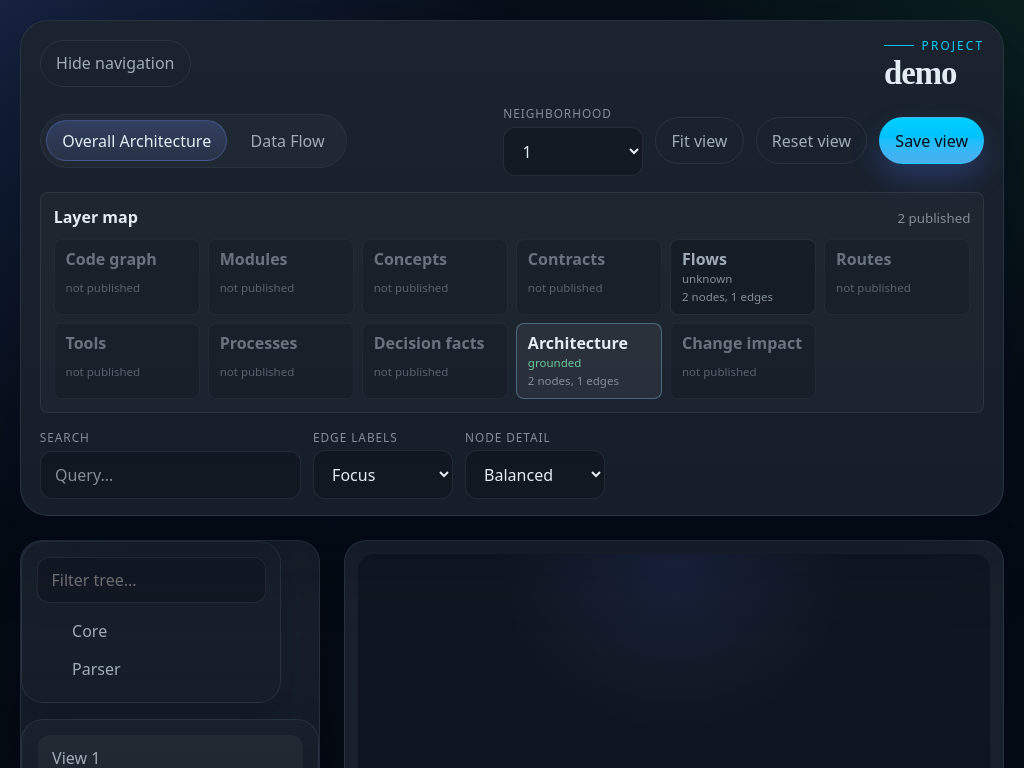
Test: cotx-workbench route › runs grounded impact for the selected node from the inspector
Step 1. Click the button "Core" → (90, 631), box [72,620,107,642]
(page scrolled)
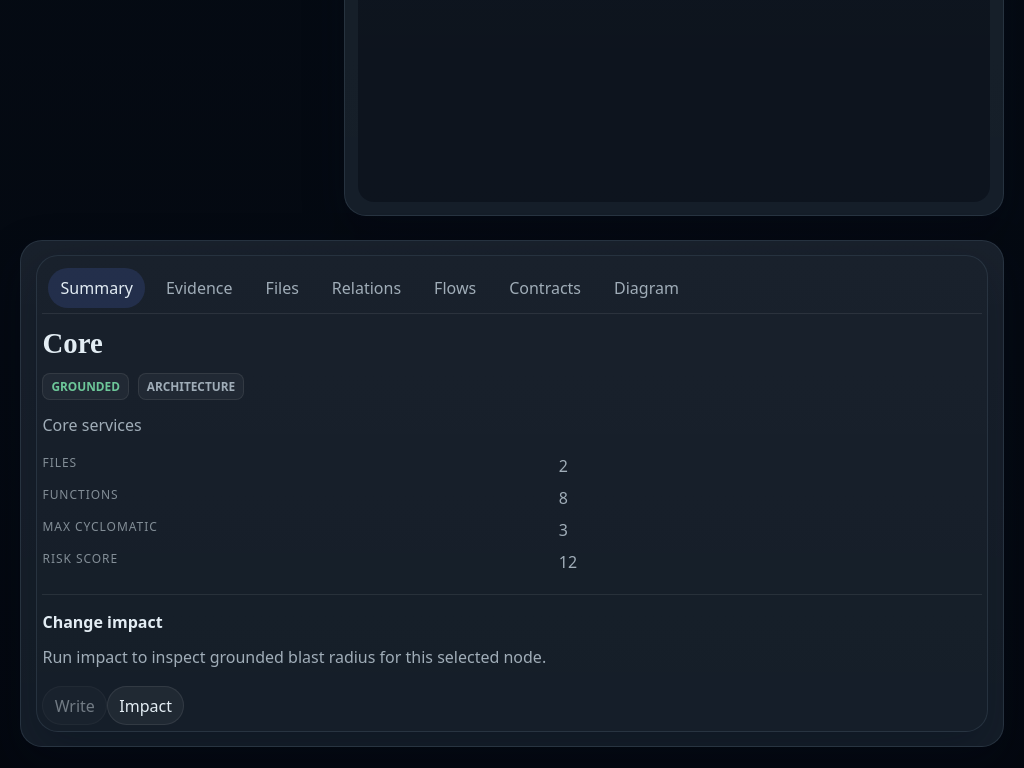
Check: the element with test id "architecture-inspector" is shown, box [36,256,988,732]
Step 2. Click the button with test id "btn-refactor" → (146, 706), box [107,686,184,725]
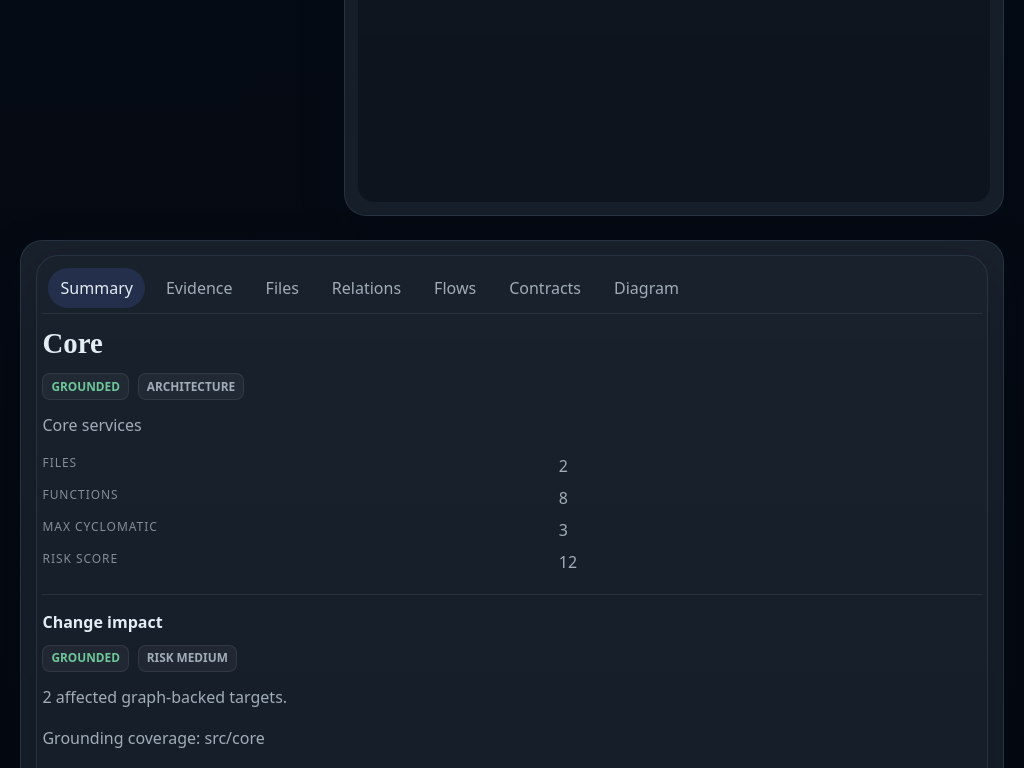
Check: the text "2 affected graph-backed targets." is shown, box [42,686,287,708]
Check: the text "Grounding coverage: src/core" is shown, box [42,727,265,749]
